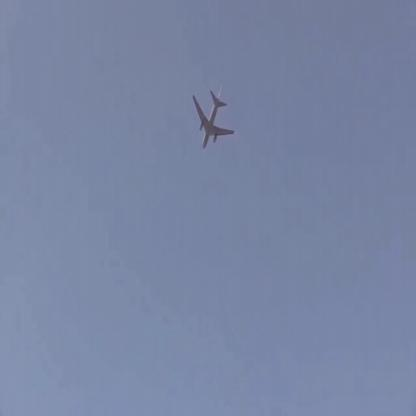CIV_Plane: (190, 88, 234, 148)
